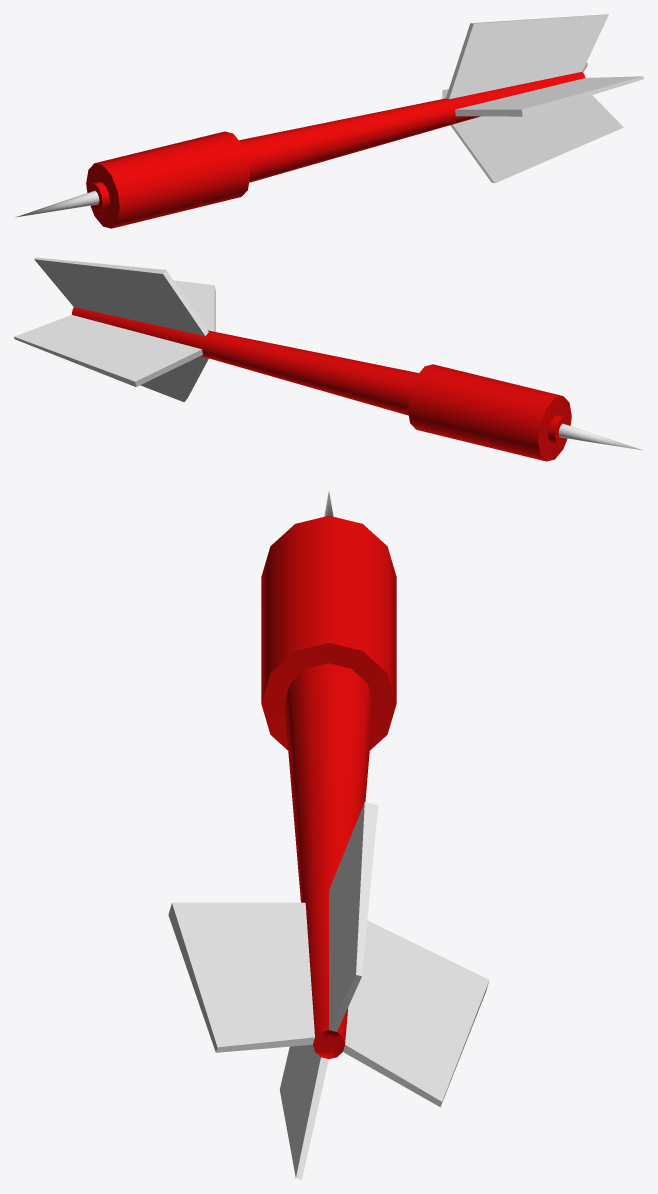
Rendered from dardo.fbx.
3 renders of one model, top to bottom at view 1: azimuth 30°, elevation 25°; view 2: azimuth 150°, elevation 25°; view 3: azimuth 270°, elevation 25°, orthographic. The views are drawn at different scales.
Parts seen in each view (by area): view 1: pCylinder2; view 2: pCylinder2; view 3: pCylinder2.
Boxes of the visible parts, x1,y1,x2,y2 form: pCylinder2: (15,14,643,228); pCylinder2: (14,257,642,461); pCylinder2: (168,491,489,1179).
Size of the model in its own units: 25.1 by 5.8 by 5.8.
